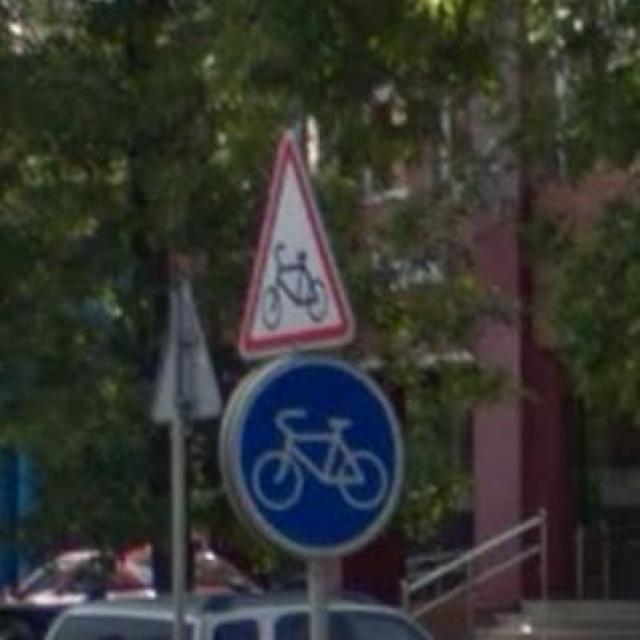traffic_sign: (230, 355, 407, 557), (233, 132, 359, 356)
